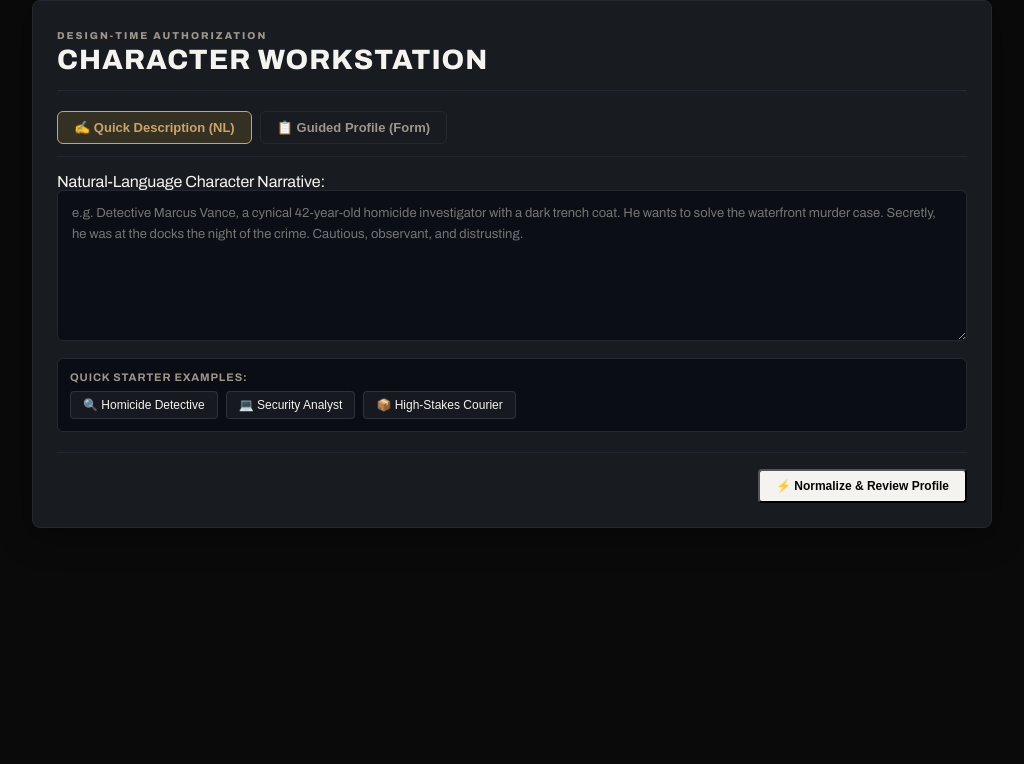
Test case: CharacterWorkstation Component (Phase A) › toggles field lock in Review Panel
Step 1. Replace the text in the text box with placeholder "e.g. Detective Marcus Vance" with "Sample text" → (512, 265), box [57, 190, 967, 341]
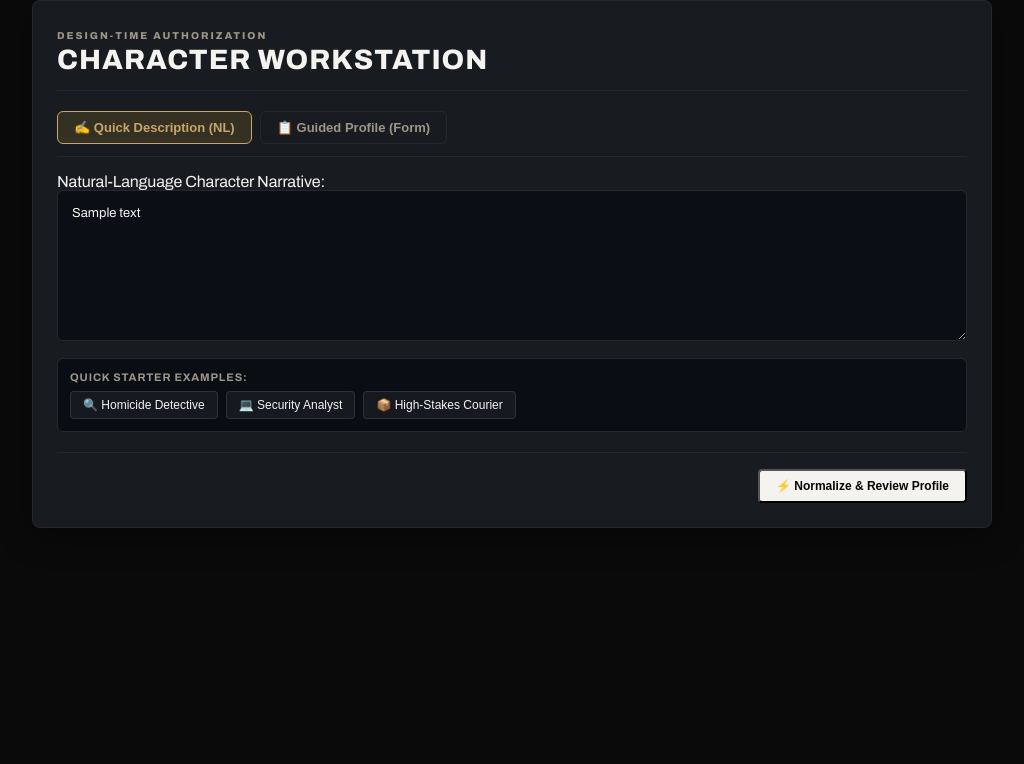
Step 2. Click the button "⚡ Normalize & Review Profile" → (862, 486), box [758, 469, 967, 503]
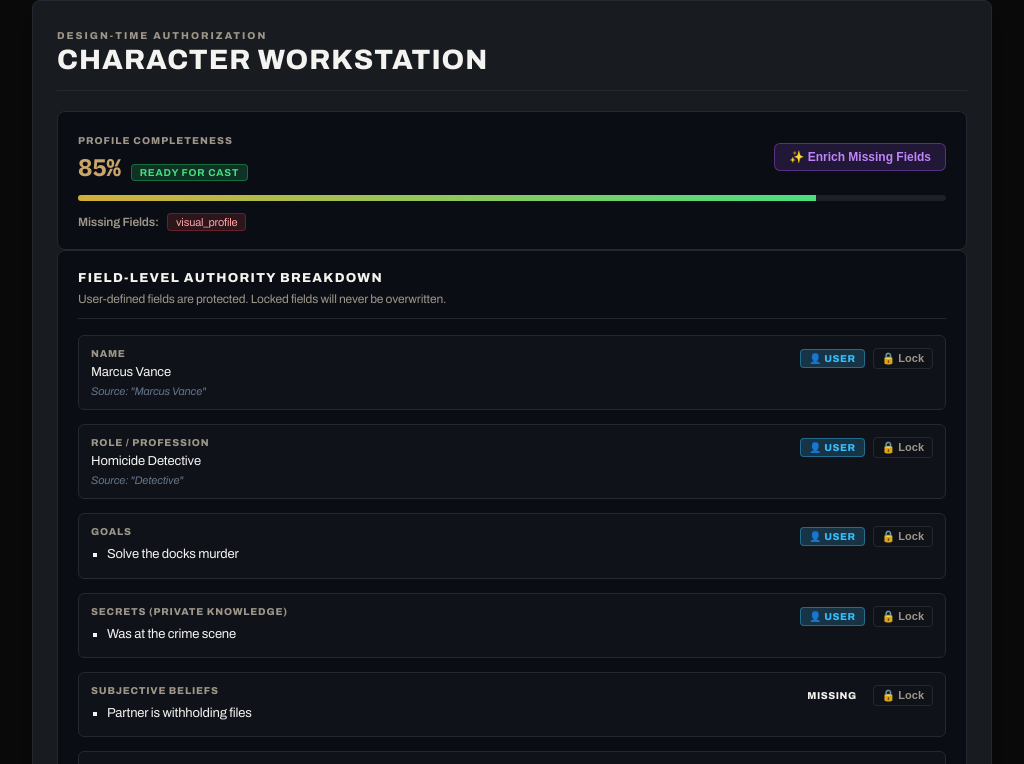
Expected: the text "PROFILE COMPLETENESS" is shown, [78, 135, 233, 146]
Step 3. Click the button "🔒 Lock" in the row of "Name" → (903, 358), box [872, 348, 933, 369]
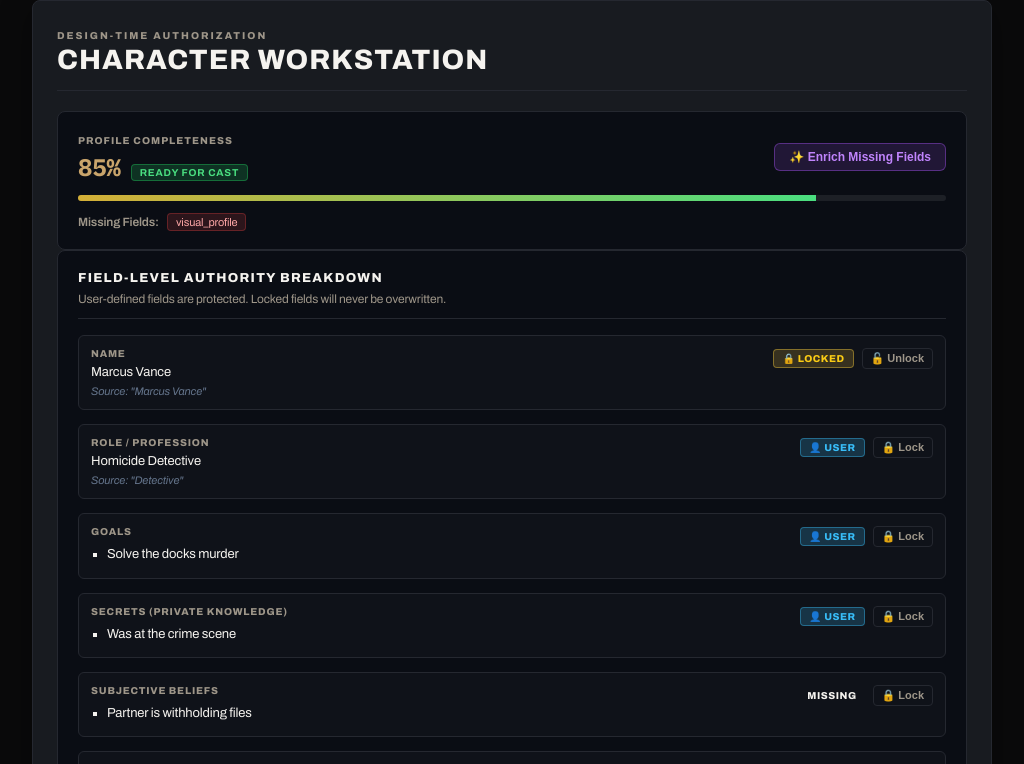
Expected: the text "🔒 LOCKED" is shown, [773, 349, 854, 368]
